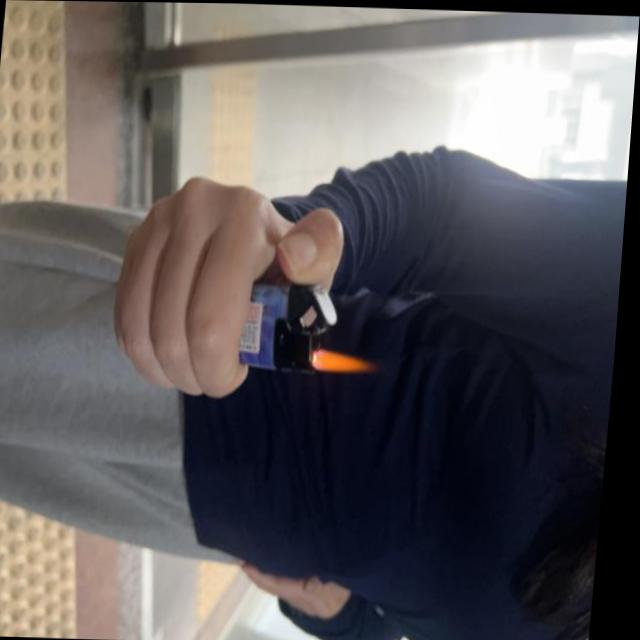Fire: (321, 341, 376, 373)
